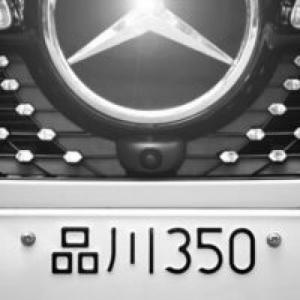Plate: (1, 210, 300, 300)
